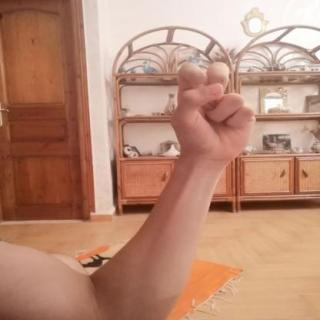QAAF: (161, 54, 266, 170)
